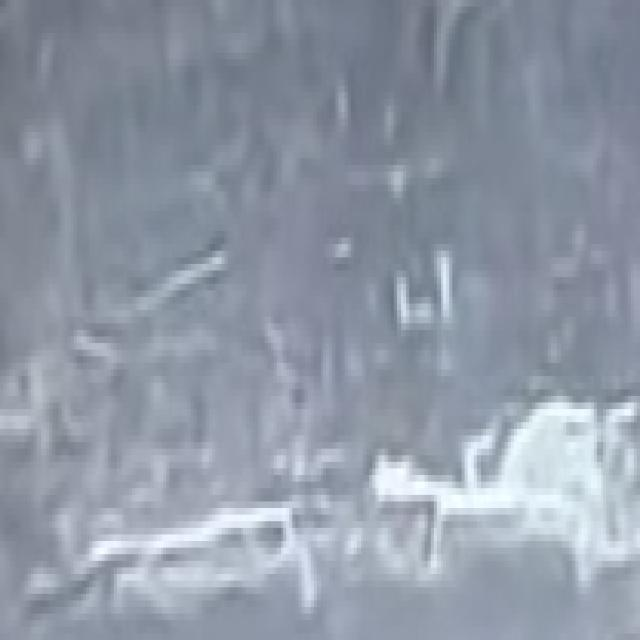crack: (358, 364, 573, 589), (78, 457, 300, 595)
